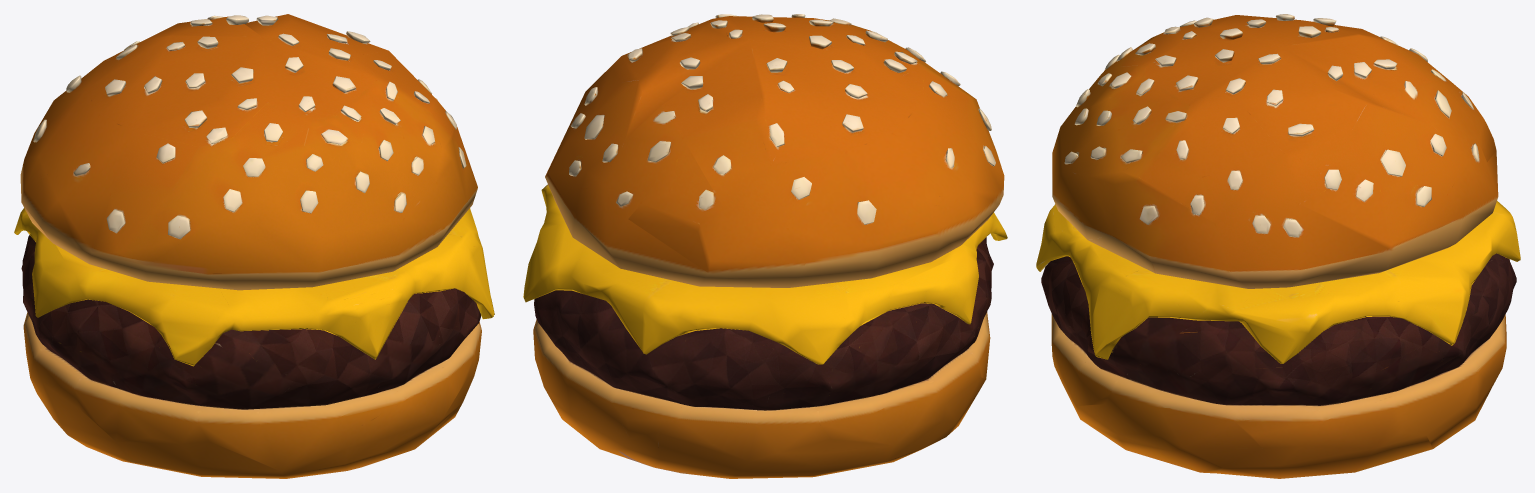
File: Simple burger.glb
3 views of the same model, side by side, from view 1: azimuth 30°, elevation 25°; view 2: azimuth 150°, elevation 25°; view 3: azimuth 270°, elevation 25° (orthographic).
Bounding box in the file's own units: 0.9502 × 0.7549 × 0.9502.
Materials: 1 (1 with a texture image).
